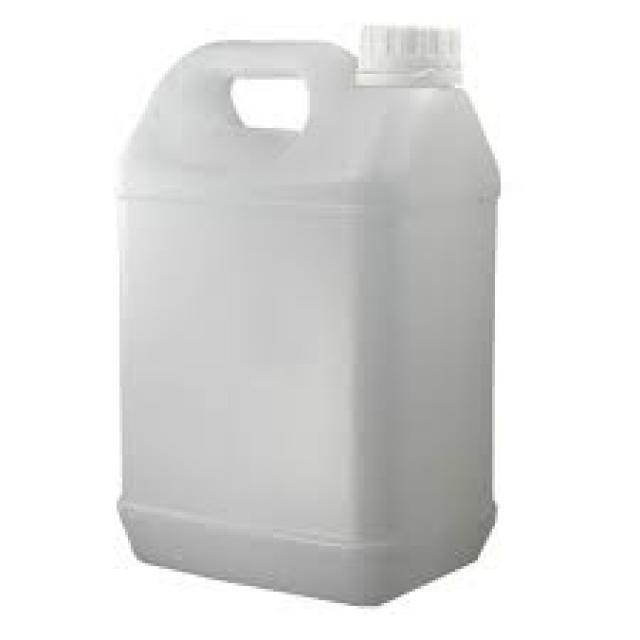Plastic: (118, 24, 498, 612)
